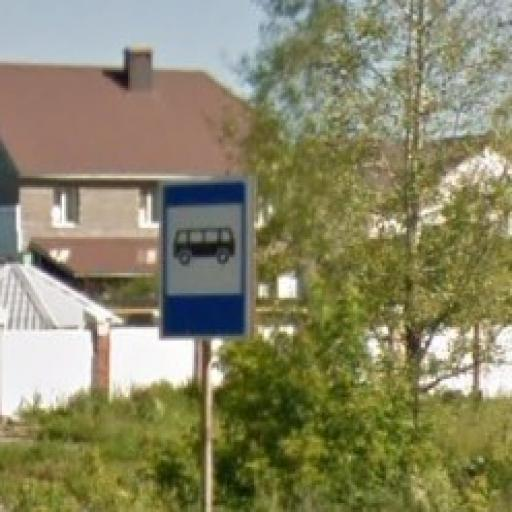traffic_sign: (160, 177, 251, 342)
